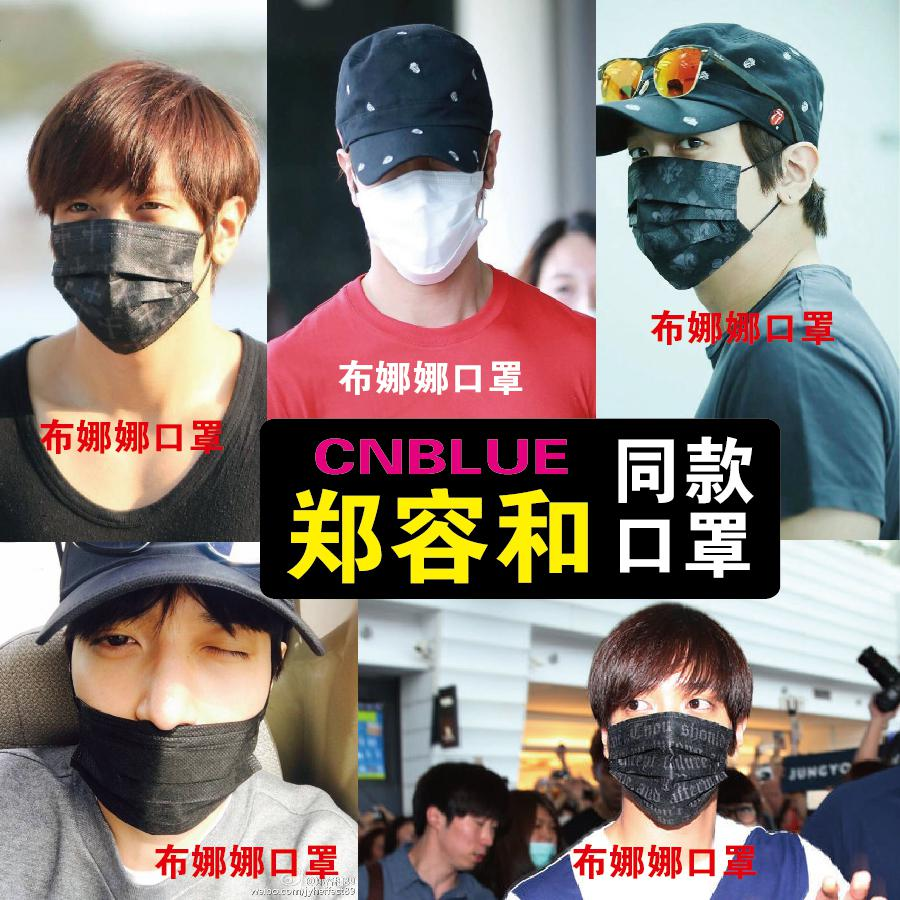NONE: (451, 808, 500, 871)
OK: (48, 171, 205, 347), (618, 110, 760, 287), (344, 124, 485, 265), (608, 677, 733, 820)
WRONG: (68, 587, 276, 815), (523, 809, 557, 863)
